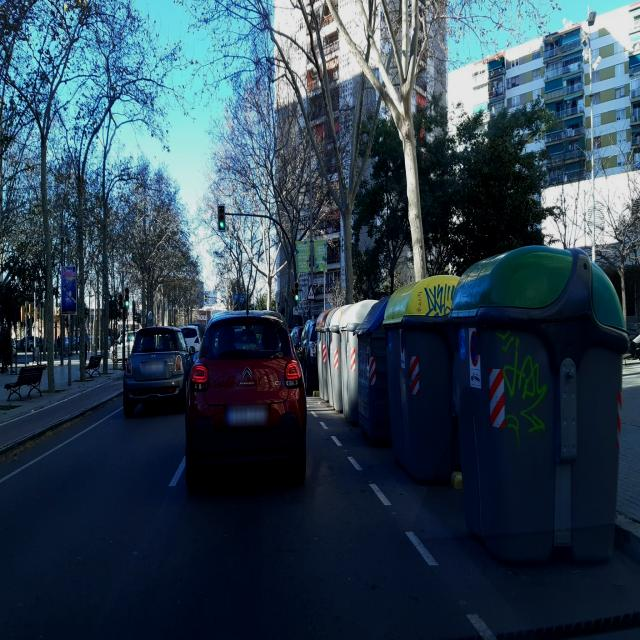car: (185, 307, 307, 492), (122, 323, 193, 418), (296, 317, 322, 396), (180, 324, 202, 354), (631, 328, 640, 359)
